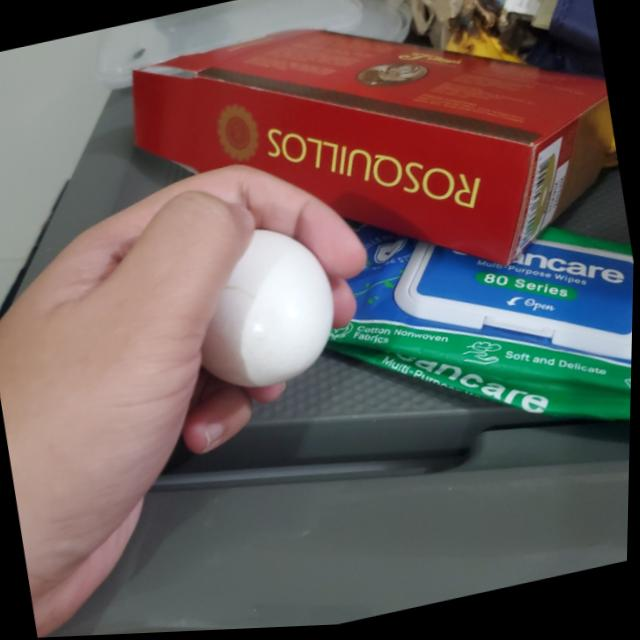egg: (180, 216, 347, 399)
